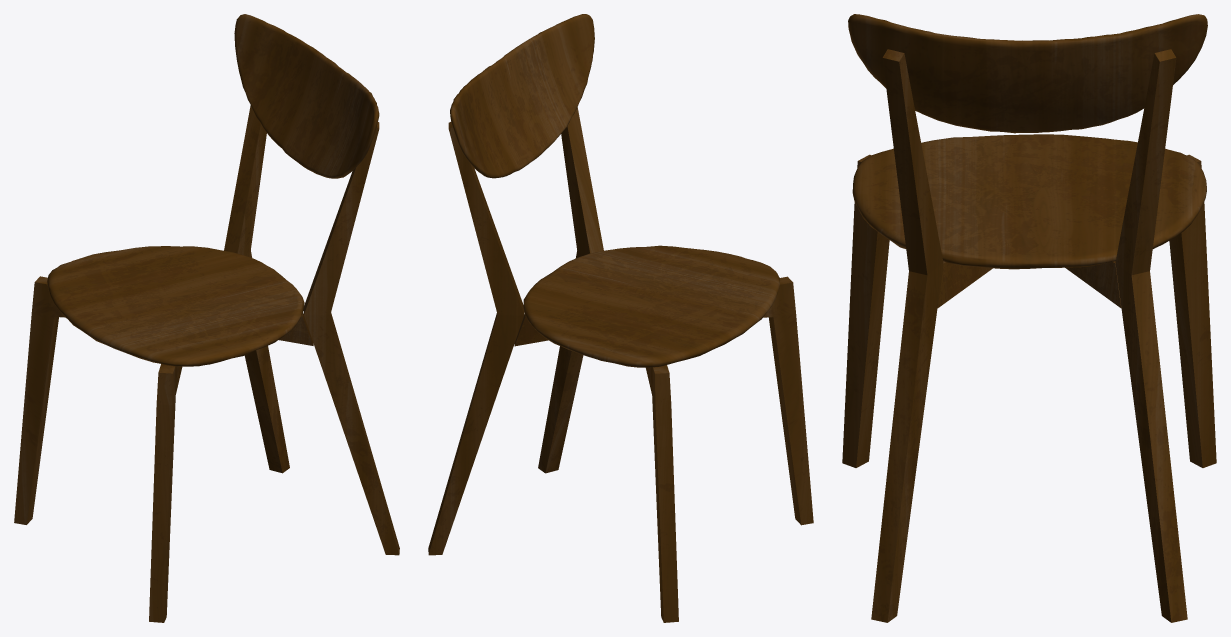
Rendered from SM_Chair.fbx.
3 views of the same model, side by side, from view 1: azimuth 30°, elevation 25°; view 2: azimuth 150°, elevation 25°; view 3: azimuth 270°, elevation 25° (orthographic). The views are drawn at different scales.
Parts seen in each view (by area): view 1: SM_Chair; view 2: SM_Chair; view 3: SM_Chair.
Part boxes in pixels (x1,y1,x2,y2): SM_Chair: (14, 14, 399, 622); SM_Chair: (428, 14, 813, 622); SM_Chair: (842, 14, 1216, 622).
Bounding box in the file's own units: 78.75 × 129 × 74.12.
Materials: 1 (1 with a texture image).
